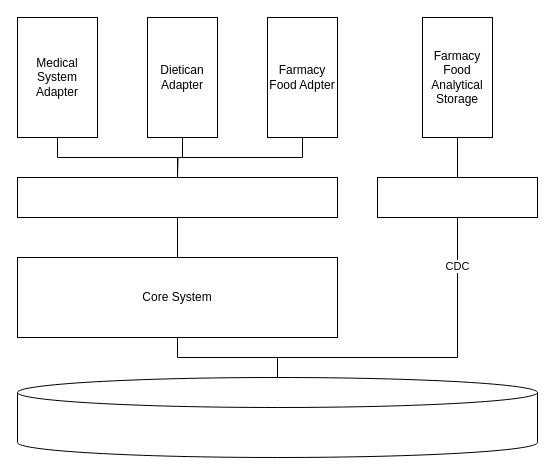
Image size: 555x475. Some labels were removed from this diagram. The shapes that lost their labels are listed below. From the top down, each one's centre as x and y in pixels, then its label:
(177,197): Integration Layer [Apollo GraphQL]
(457,197): Debezium
